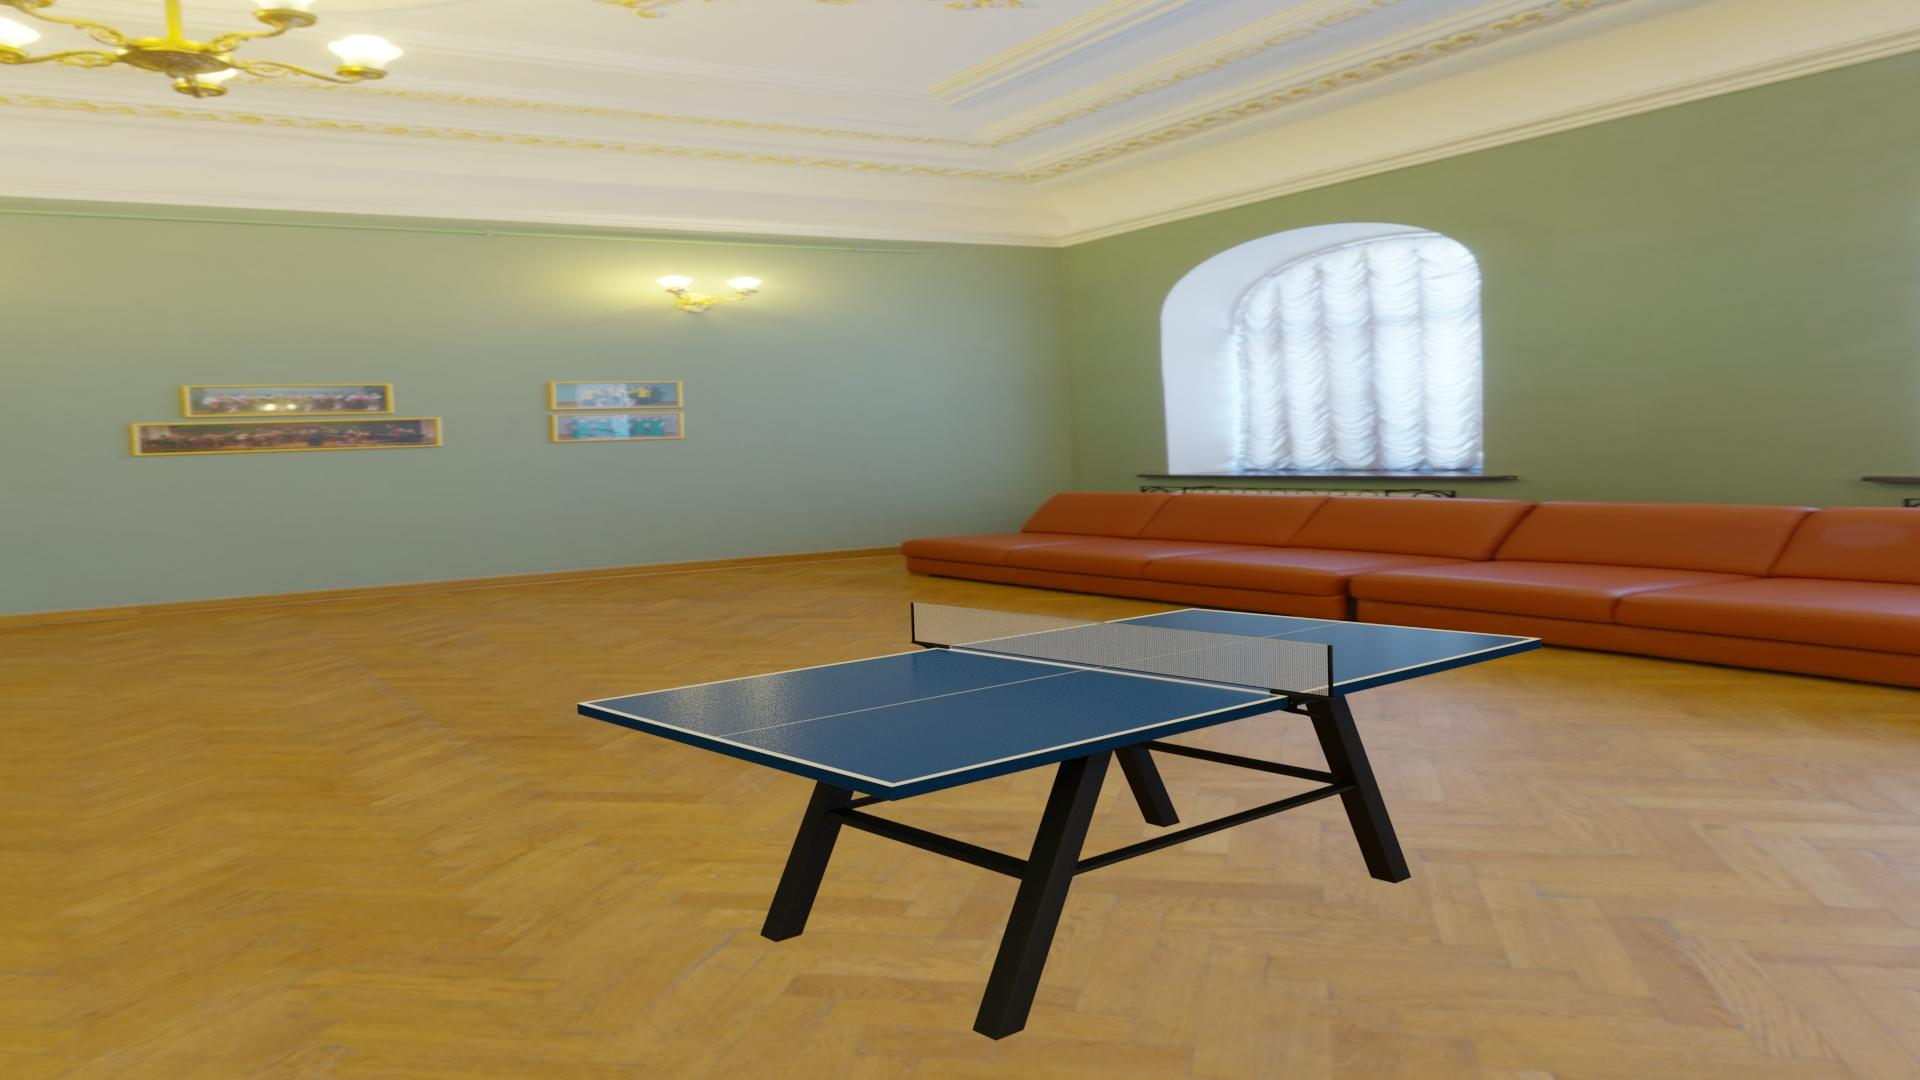table: (585, 609, 1534, 783)
